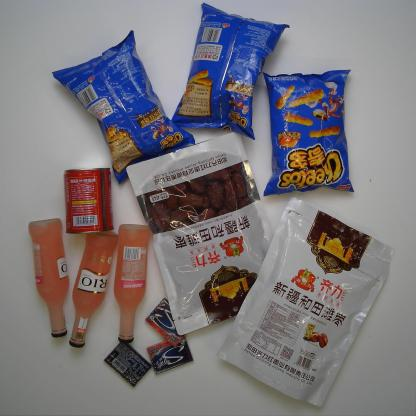Alcohol: (67, 228, 119, 348), (27, 215, 70, 338), (112, 222, 153, 344)
Canned Food: (62, 164, 117, 237)
Dried Food: (216, 195, 396, 407), (126, 130, 278, 338)
Gum: (102, 340, 154, 388), (144, 297, 191, 348), (144, 333, 194, 376)
Puffed Food: (52, 30, 197, 186), (170, 2, 289, 142), (260, 65, 355, 198)
